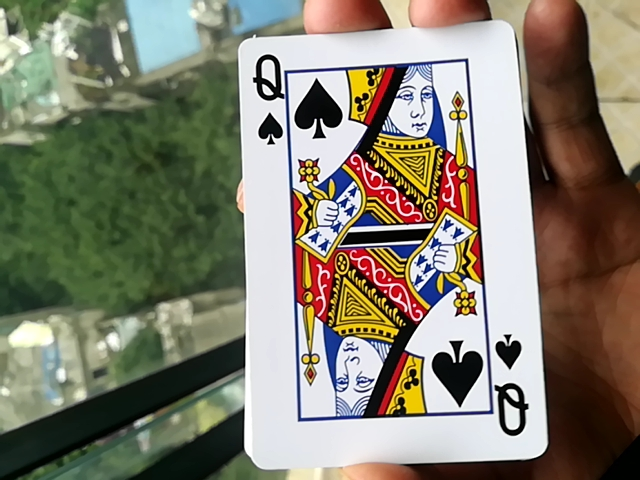ht q: (228, 16, 542, 469)
